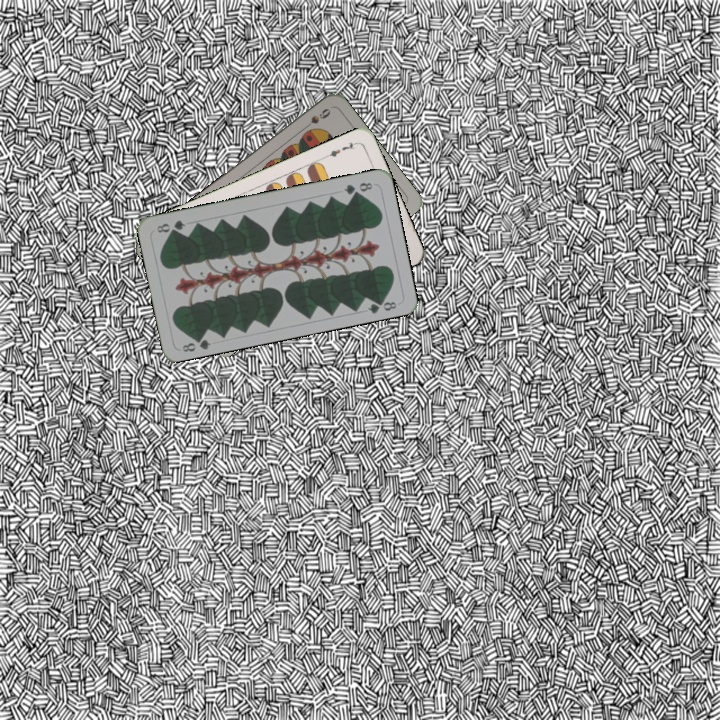E7: (321, 138, 360, 160)
G8: (178, 331, 213, 355), (340, 178, 375, 197)
S9: (298, 104, 334, 135)
